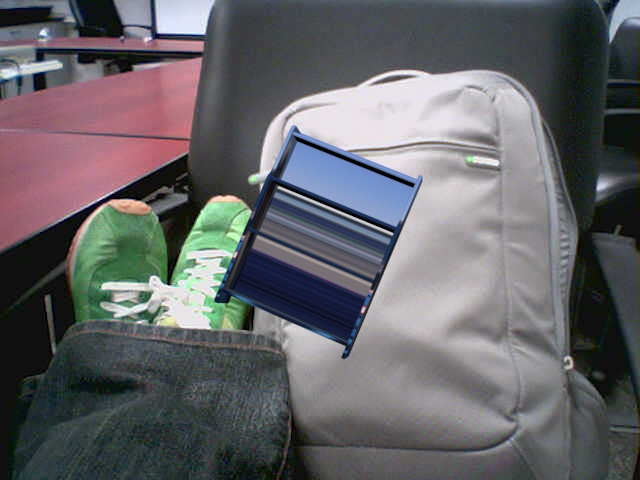bookcase: (208, 112, 433, 369)
